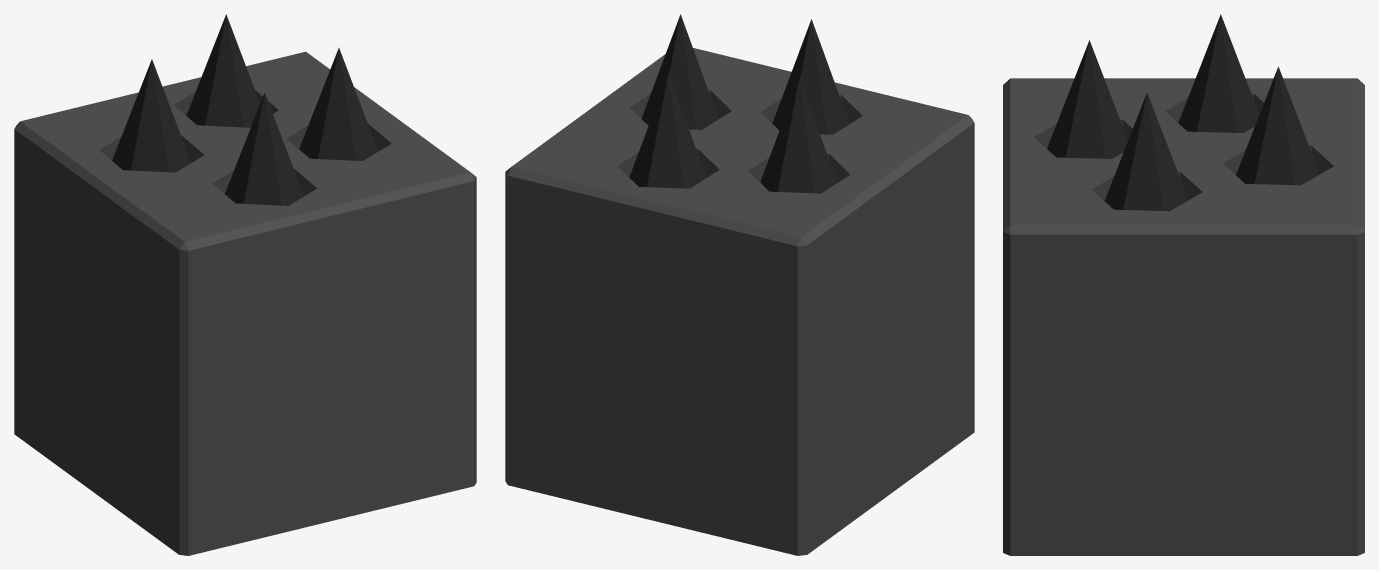
The model's file is HJD_SFB_Hazzard_02.fbx.
3 views of the same model, side by side, from view 1: azimuth 30°, elevation 25°; view 2: azimuth 150°, elevation 25°; view 3: azimuth 270°, elevation 25° (orthographic). The views are drawn at different scales.
Parts seen in each view (by area): view 1: Platform, Spikes; view 2: Platform, Spikes; view 3: Platform, Spikes.
Boxes of the visible parts, x1=… form: Platform: x1=14, y1=51, x2=476, y2=555; Spikes: x1=112, y1=14, x2=378, y2=205; Platform: x1=505, y1=48, x2=974, y2=555; Spikes: x1=629, y1=14, x2=849, y2=193; Platform: x1=1003, y1=78, x2=1364, y2=555; Spikes: x1=1047, y1=14, x2=1319, y2=211.
Bounding box in the file's own units: 100 × 130 × 100.
